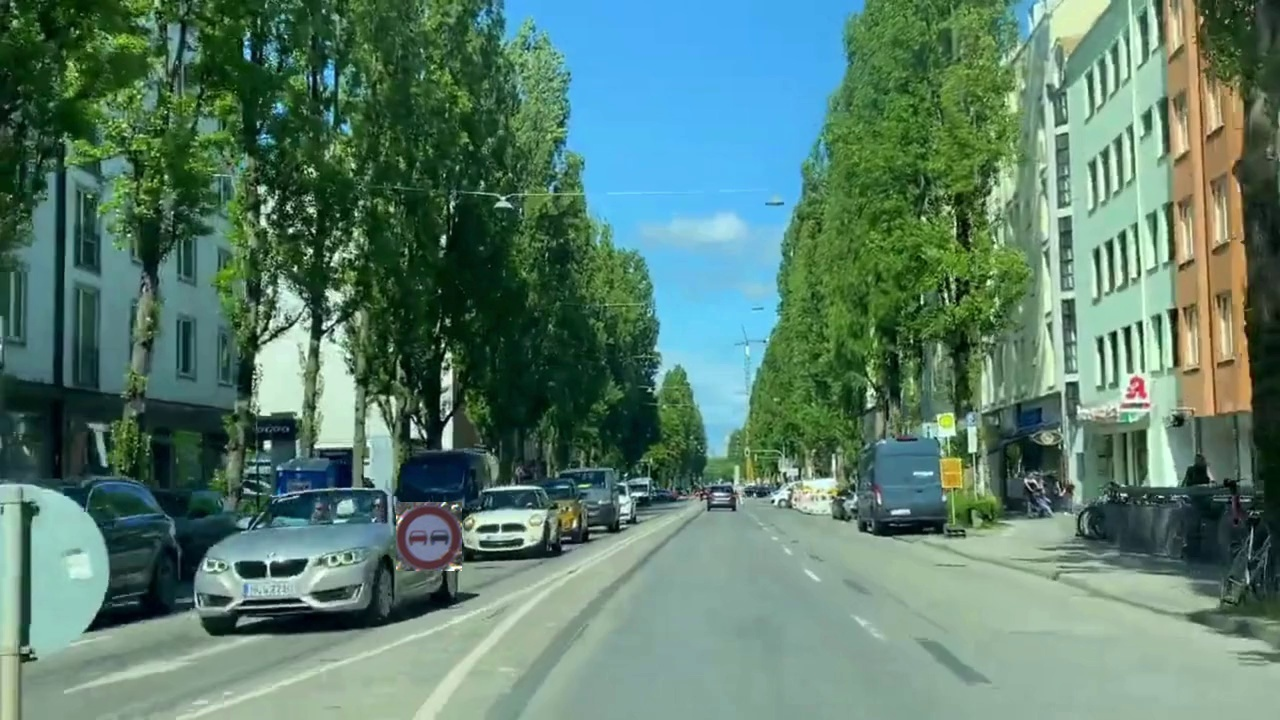No passing: (396, 502, 462, 571)
